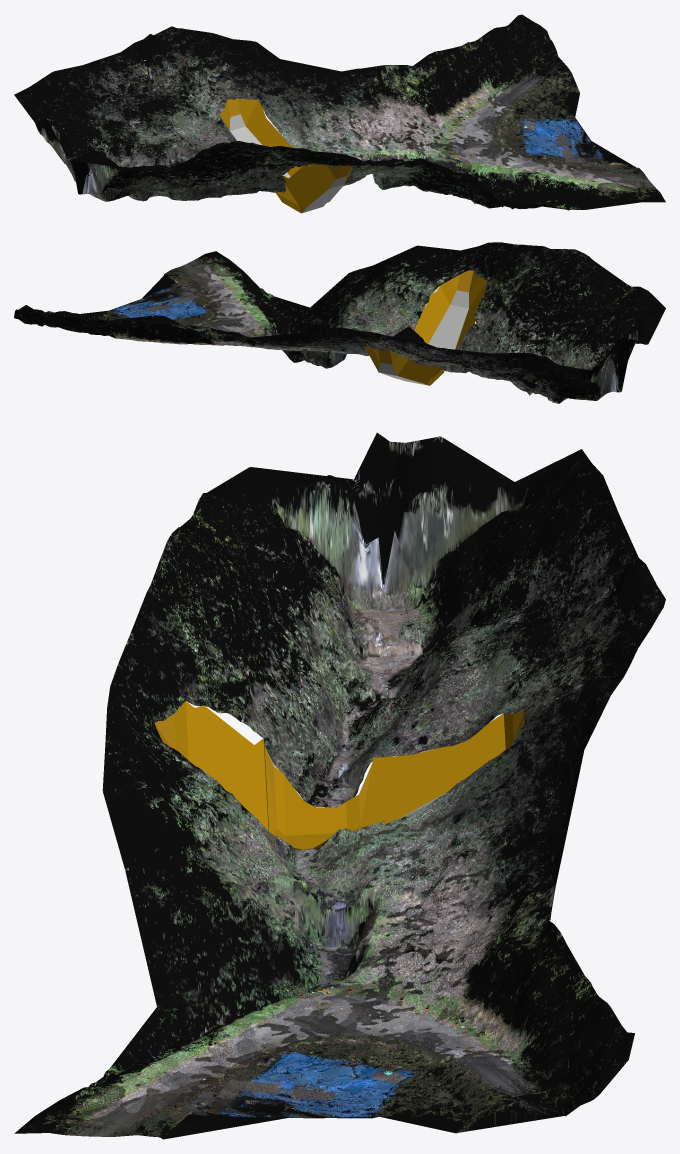
3 renders of one model, top to bottom at view 1: azimuth 30°, elevation 25°; view 2: azimuth 150°, elevation 25°; view 3: azimuth 270°, elevation 25°, orthographic. The views are drawn at different scales.
Parts seen in each view (by area): view 1: オブジェクト; view 2: オブジェクト; view 3: オブジェクト.
Part boxes in pixels (x1,y1,x2,y2): オブジェクト: [14, 14, 665, 213]; オブジェクト: [14, 242, 665, 403]; オブジェクト: [14, 432, 665, 1139].
Bounding box in the file's own units: 73.53 × 18.58 × 40.26.
Materials: 7 (4 with a texture image).
